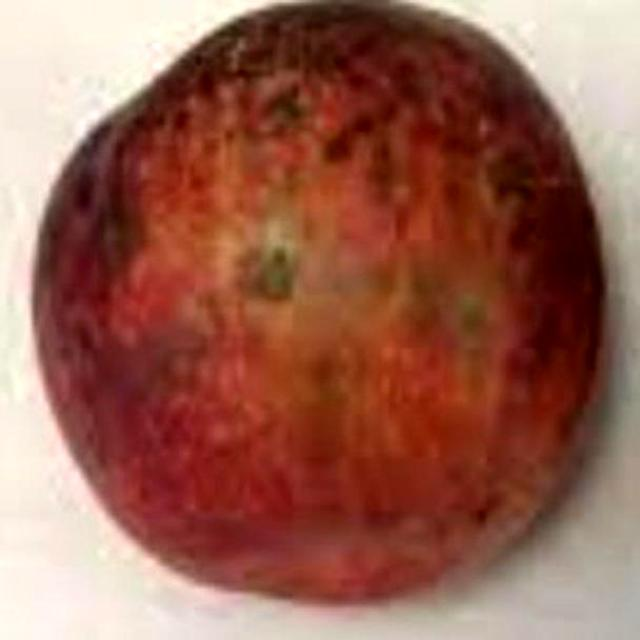BLOTCH: (12, 11, 618, 608)
